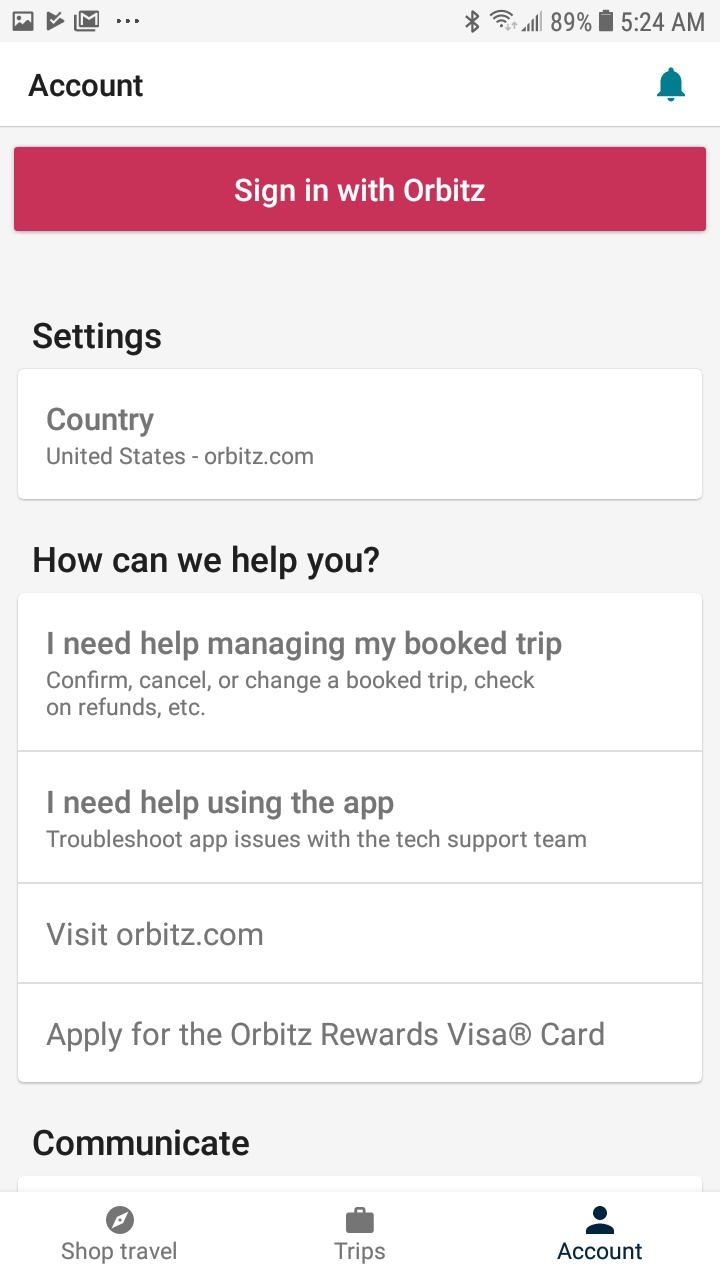Icon: (656, 67, 686, 103), (586, 1206, 615, 1235), (107, 1205, 136, 1234), (346, 1207, 375, 1234)
Text: (47, 669, 536, 719), (47, 1020, 605, 1053), (48, 629, 563, 662), (46, 829, 587, 853), (34, 545, 380, 581), (48, 789, 395, 821), (33, 1128, 250, 1156), (46, 921, 263, 947), (47, 446, 314, 466), (34, 322, 163, 357), (47, 407, 155, 438), (28, 74, 144, 99), (62, 1241, 178, 1265), (556, 1241, 643, 1260), (334, 1241, 386, 1265)
TextButton: (14, 147, 706, 232)
UpperTaskBar: (1, 1, 720, 43)
